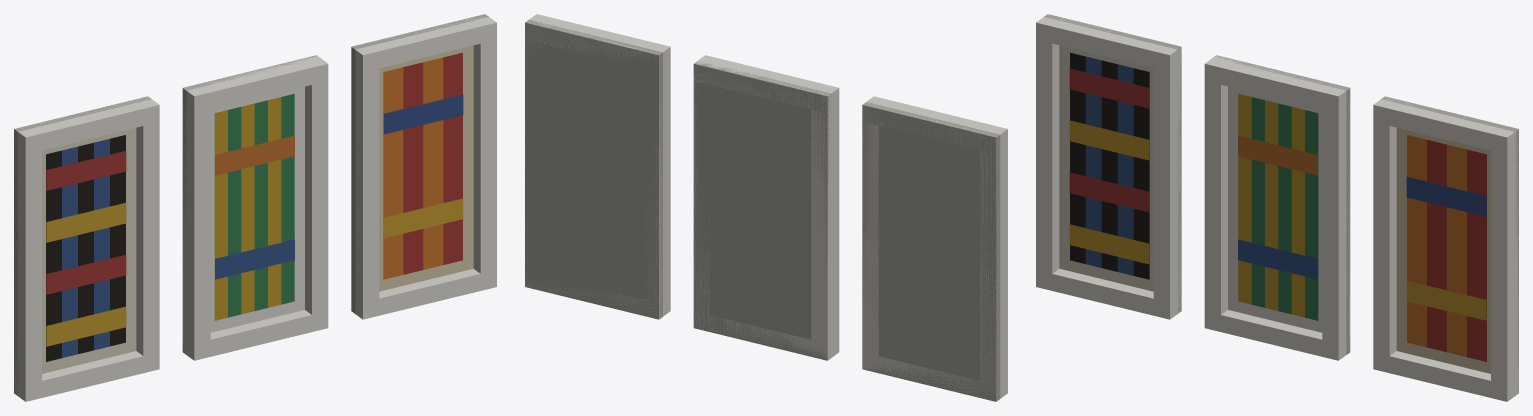
Rendered from picture-frame-26.glb.
The picture shows the model from 3 angles, left to right: view 1: azimuth 30°, elevation 25°; view 2: azimuth 150°, elevation 25°; view 3: azimuth 330°, elevation 25°; orthographic projection.
Parts seen in each view (by area): view 1: picture_frame_26; view 2: picture_frame_26; view 3: picture_frame_26.
Boxes of the visible parts, <box> form: picture_frame_26: <box>14,14,496,401</box>; picture_frame_26: <box>525,14,1007,401</box>; picture_frame_26: <box>1036,14,1518,401</box>.
Bounding box in the file's own units: 0.8174 × 0.4383 × 0.0353.
